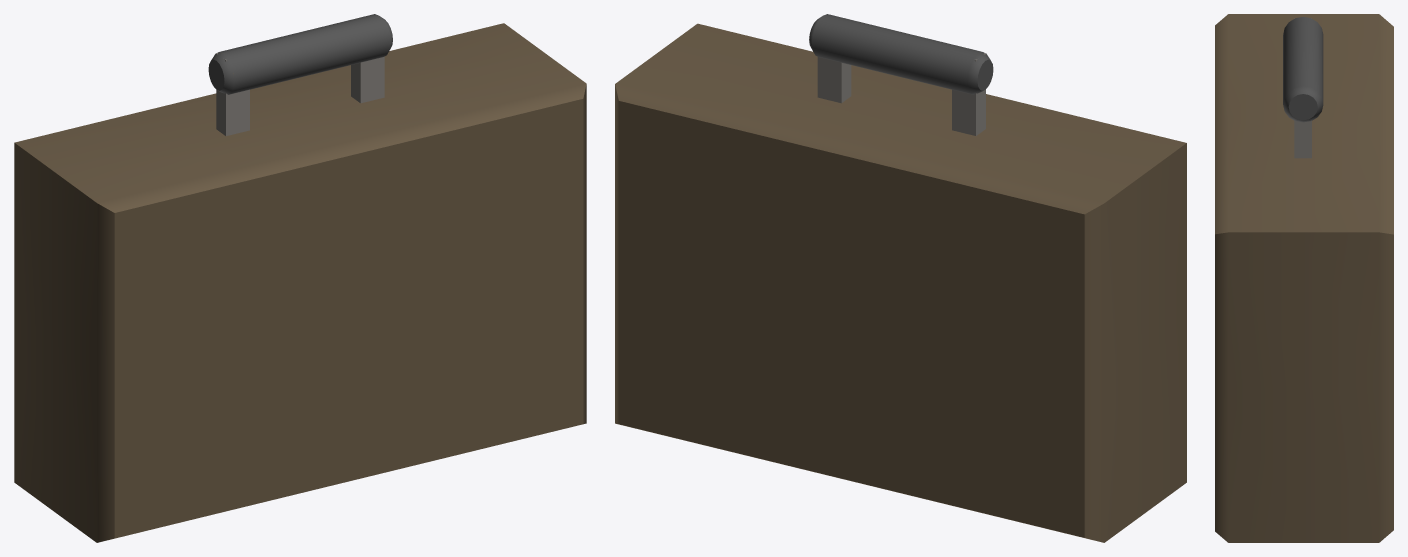
Rendered from BriefCase.fbx.
The picture shows the model from 3 angles, left to right: view 1: azimuth 30°, elevation 25°; view 2: azimuth 150°, elevation 25°; view 3: azimuth 270°, elevation 25°; orthographic projection. The views are drawn at different scales.
Visible parts, largest first — view 1: pCube4; view 2: pCube4; view 3: pCube4.
Boxes of the visible parts, bbox=[...] form: pCube4: bbox=[14, 14, 586, 542]; pCube4: bbox=[615, 14, 1186, 542]; pCube4: bbox=[1215, 14, 1393, 542].
Bounding box in the file's own units: 35.19 × 28.74 × 12.17.
